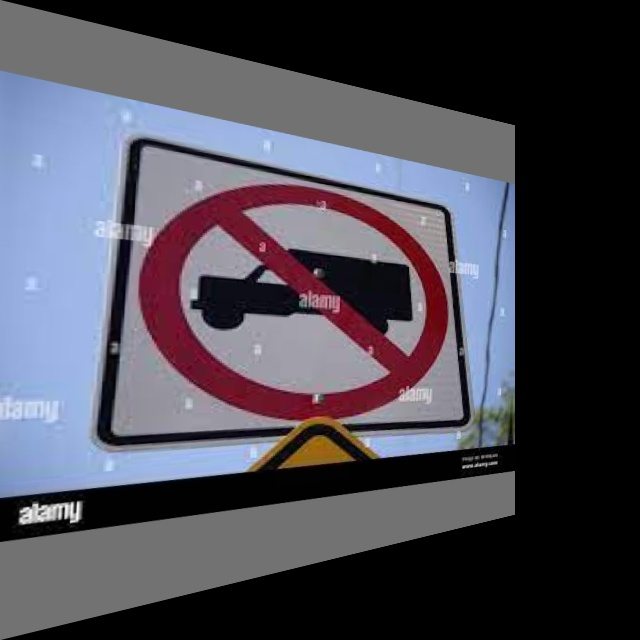Truck_Prohibited: (134, 152, 459, 442)
